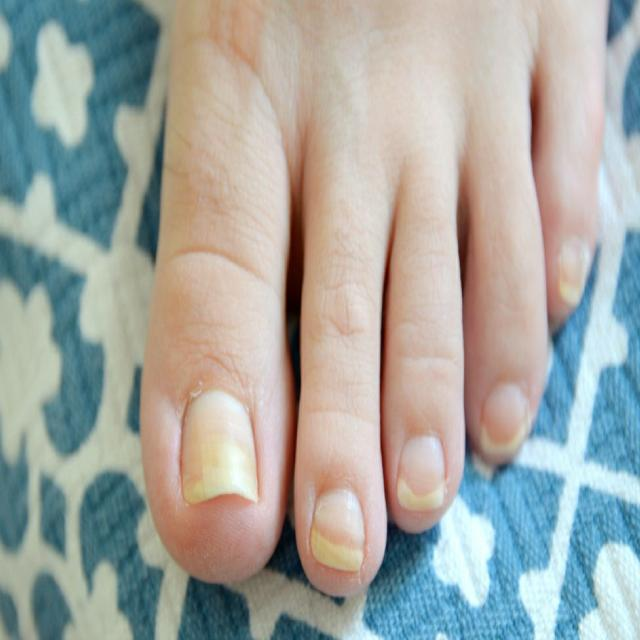diabetes: (179, 390, 261, 506), (310, 490, 366, 567), (396, 437, 446, 511)
